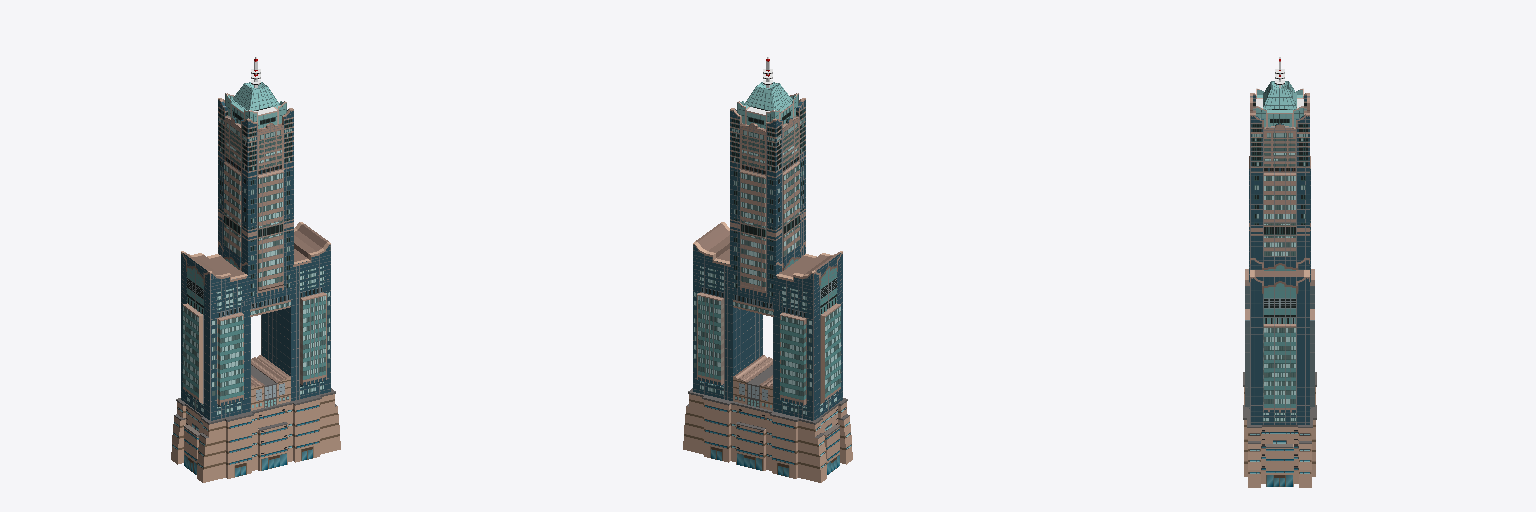
3 views of the same model, side by side, from view 1: azimuth 30°, elevation 25°; view 2: azimuth 150°, elevation 25°; view 3: azimuth 270°, elevation 25° (orthographic).
Visible parts, largest first — view 1: Building85; view 2: Building85; view 3: Building85.
Boxes of the visible parts, x1,y1,x2,y2 form: Building85: [171, 57, 340, 482]; Building85: [683, 57, 852, 482]; Building85: [1243, 57, 1316, 487].
Bounding box in the file's own units: 450 × 1241 × 209.
1 materials, 1 textured.